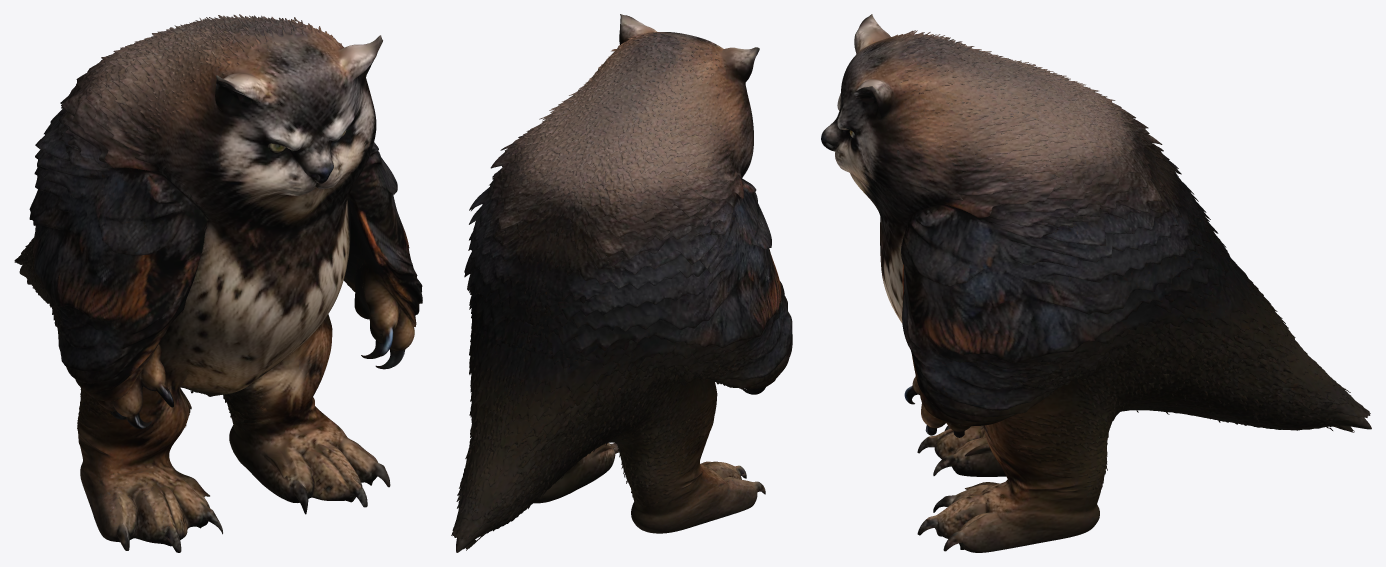
The model's file is owlbear.glb.
The picture shows the model from 3 angles, left to right: view 1: azimuth 30°, elevation 25°; view 2: azimuth 150°, elevation 25°; view 3: azimuth 270°, elevation 25°; orthographic projection. The views are drawn at different scales.
Parts seen in each view (by area): view 1: material; view 2: material; view 3: material.
Part boxes in pixels (left/top/right/bottom): material: left=14, top=14, right=422, bottom=552; material: left=451, top=14, right=792, bottom=552; material: left=821, top=14, right=1371, bottom=552.
Size of the model in its own units: 0.6069 by 0.8836 by 0.968.
Materials: 1 (1 with a texture image).
